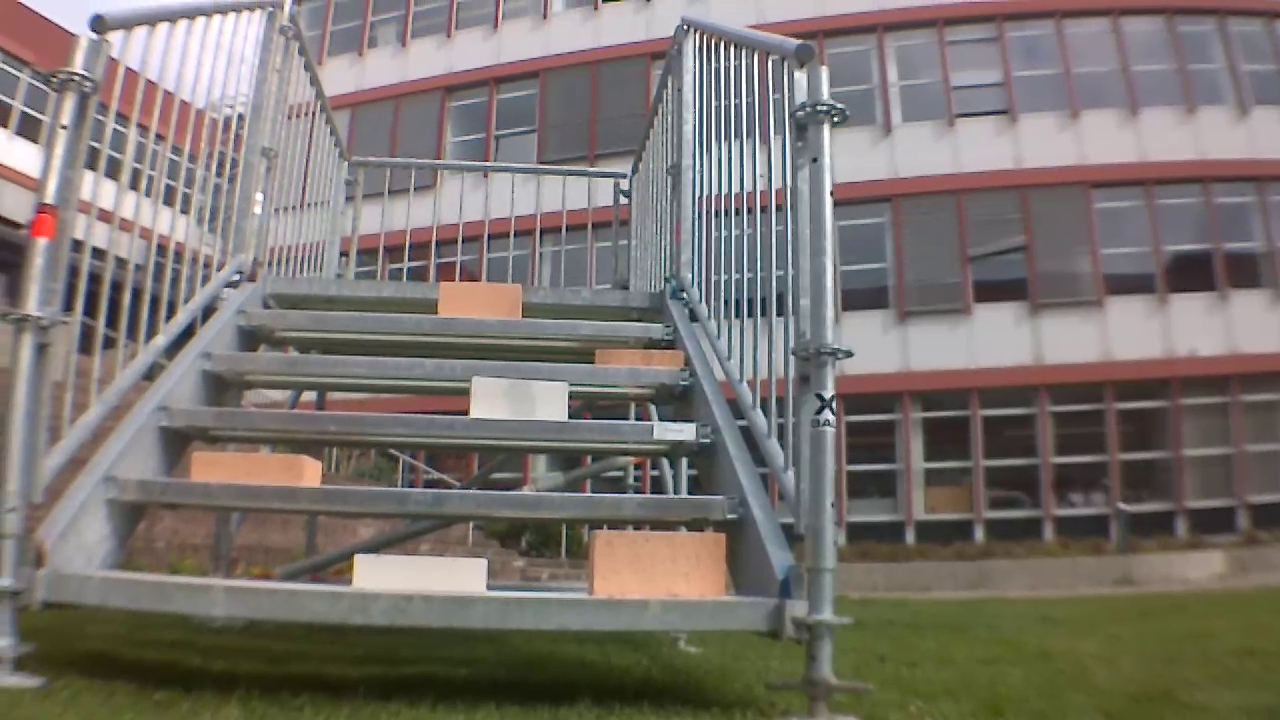brick: (589, 531, 725, 598), (355, 555, 485, 591), (189, 452, 320, 485), (470, 376, 568, 420), (439, 282, 522, 319), (593, 348, 684, 369)
edge: (43, 569, 775, 629), (107, 477, 742, 519), (156, 405, 714, 444), (202, 350, 693, 383), (264, 275, 661, 308), (237, 309, 672, 338)
stairs: (7, 2, 869, 718)
steps: (36, 268, 779, 637)
